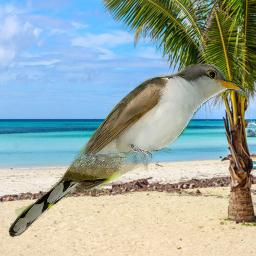Cuckoo: (4, 61, 251, 239)
